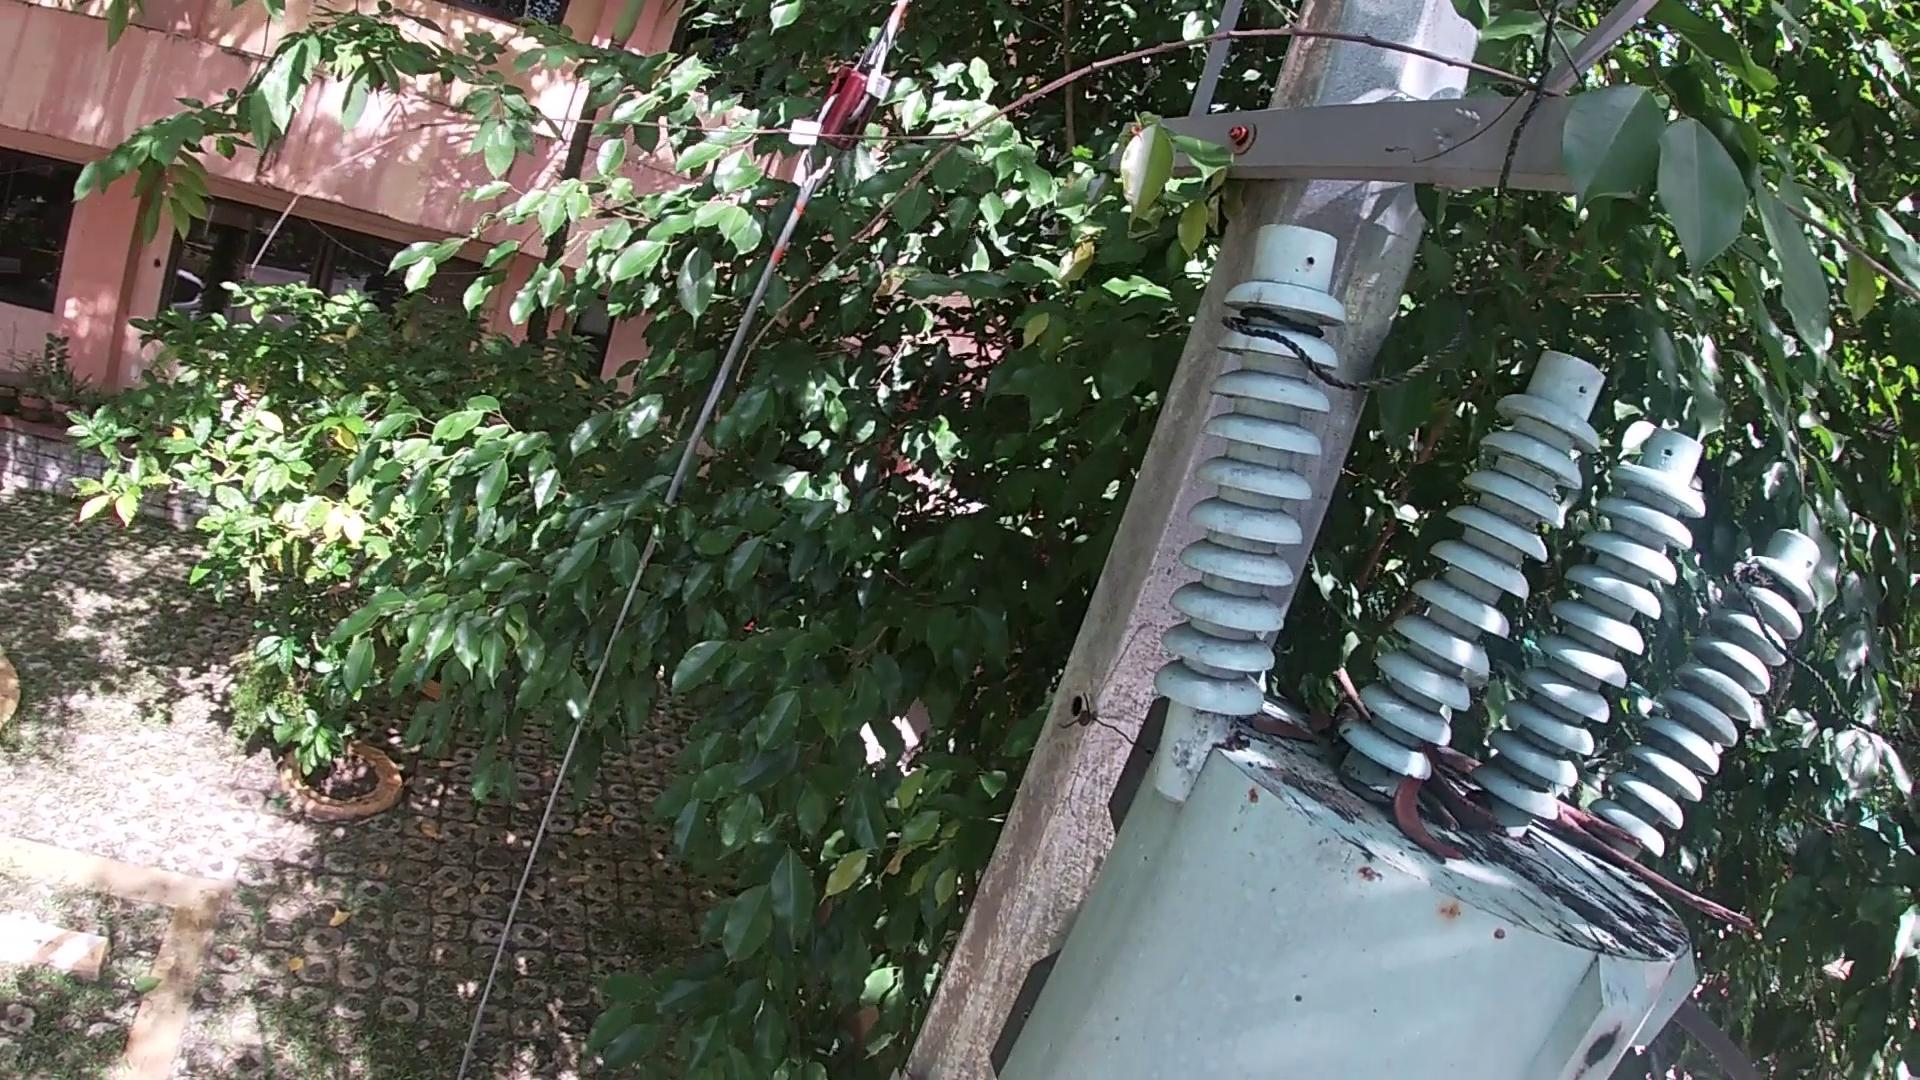leaf: (1245, 716, 1313, 745), (1335, 770, 1382, 803)
mahogany fruit: (1396, 777, 1476, 884), (1440, 770, 1513, 829)
tree branch: (219, 7, 1621, 384), (1557, 800, 1782, 935), (1424, 785, 1458, 837), (1331, 665, 1367, 709), (1327, 691, 1356, 738), (1433, 752, 1480, 781)
